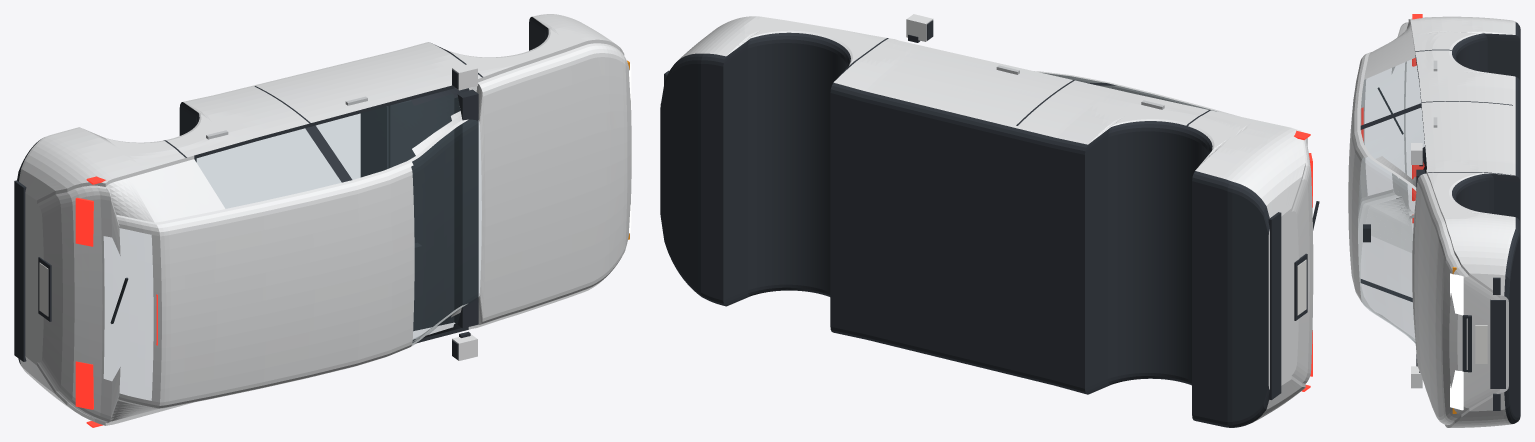
File: vehicle.glb
The picture shows the model from 3 angles, left to right: view 1: azimuth 30°, elevation 25°; view 2: azimuth 150°, elevation 25°; view 3: azimuth 270°, elevation 25°; orthographic projection. The views are drawn at different scales.
Parts seen in each view (by area): view 1: body_paint_visual, body_glass_visual, dashboard_visual, firewall_visual, body_black_visual, rear_lower_visual, dashboard_lower_visual, tail_light_left_visual, tail_light_right_visual; view 2: body_black_visual, body_paint_visual, rear_lower_visual; view 3: body_paint_visual, body_glass_visual, body_black_visual, grille_lower_visual, grille_upper_visual, front_plate_visual, headlight_left_visual, headlight_right_visual, mirror_left_visual, mirror_right_visual.
Part boxes in pixels (x1,y1,x2,y2): body_paint_visual: (19,14,631,425); body_glass_visual: (104,94,481,400); dashboard_visual: (388,94,454,331); firewall_visual: (454,89,478,328); body_black_visual: (17,17,548,364); rear_lower_visual: (14,180,26,361); dashboard_lower_visual: (360,106,388,177); tail_light_left_visual: (75,197,93,246); tail_light_right_visual: (75,361,93,409); body_black_visual: (660,32,1269,427); body_paint_visual: (679,16,1313,422); rear_lower_visual: (1268,212,1281,399); body_paint_visual: (1348,16,1515,427); body_glass_visual: (1358,58,1424,343); body_black_visual: (1360,22,1520,423); grille_lower_visual: (1490,299,1505,388); grille_upper_visual: (1462,315,1471,372); front_plate_visual: (1475,325,1487,363); headlight_left_visual: (1450,273,1463,315); headlight_right_visual: (1450,370,1463,410); mirror_left_visual: (1411,143,1422,164); mirror_right_visual: (1411,366,1422,388).
Size of the model in its own units: 4.41 by 2.05 by 1.35.
